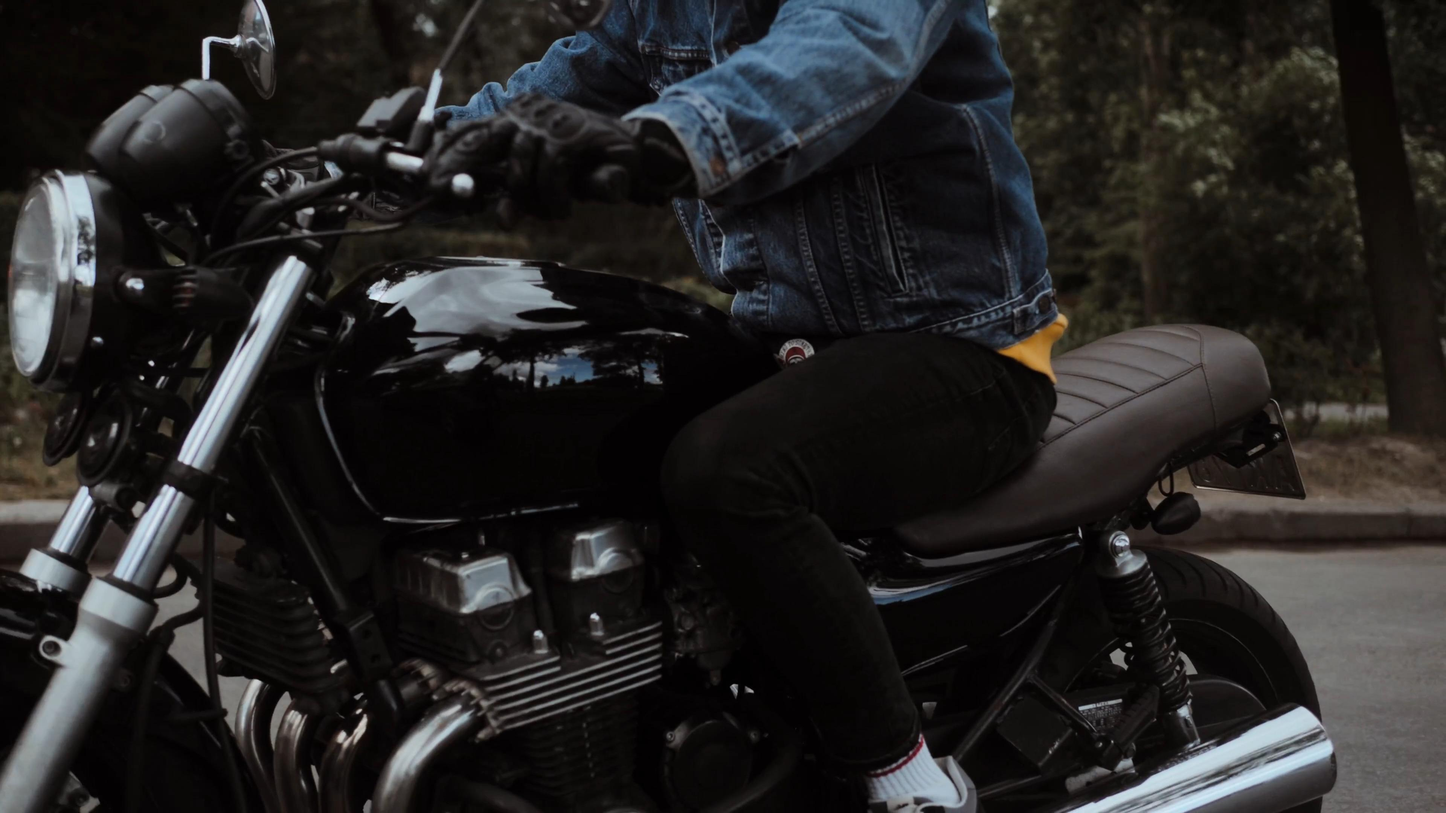driver: (0, 0, 1338, 813)
